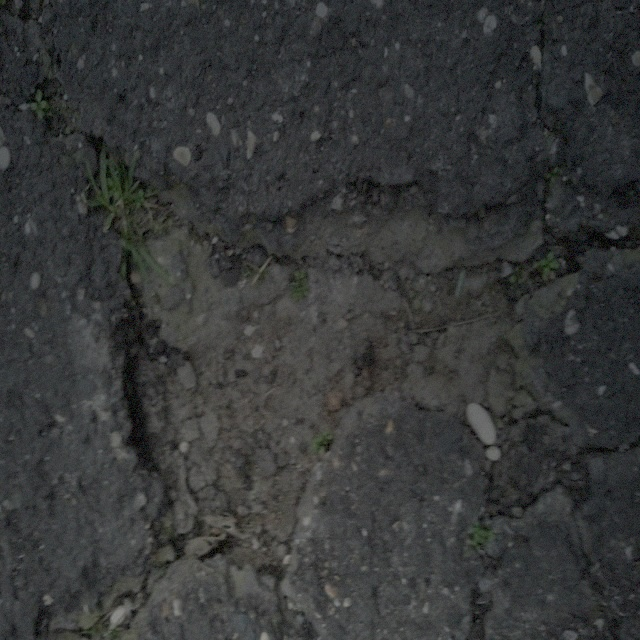pothole: (108, 164, 591, 572)
